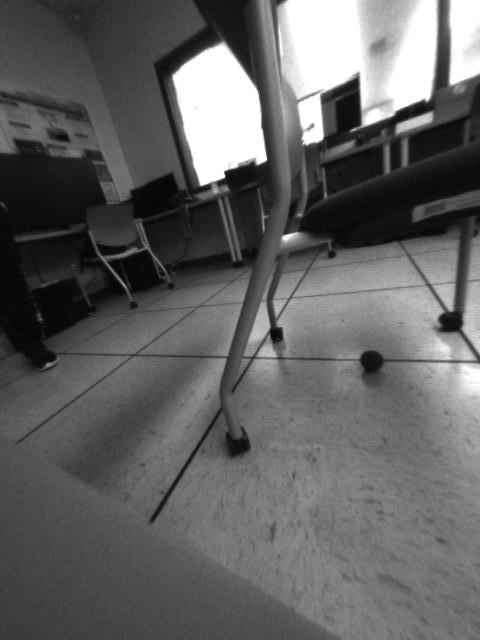dogtoy: (348, 345, 395, 377)
